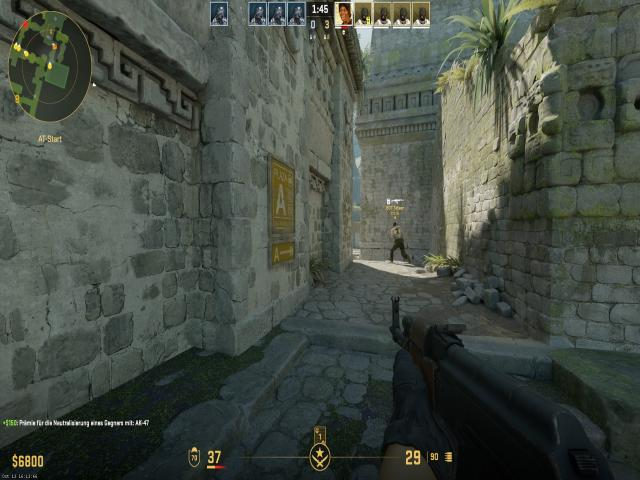Bomb: (395, 228, 401, 238)
T: (386, 216, 411, 268)
T-Head: (392, 219, 400, 230)
